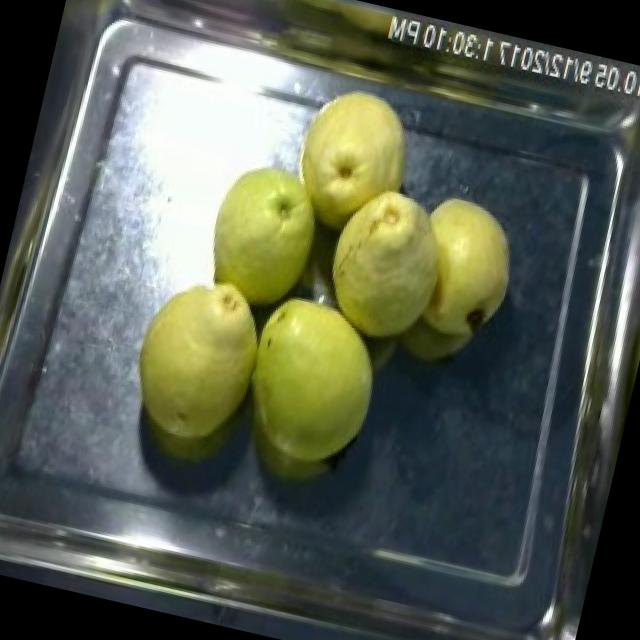Fruit: (304, 165, 534, 381), (229, 278, 401, 504), (112, 258, 274, 461), (183, 142, 342, 337), (273, 66, 432, 250)
